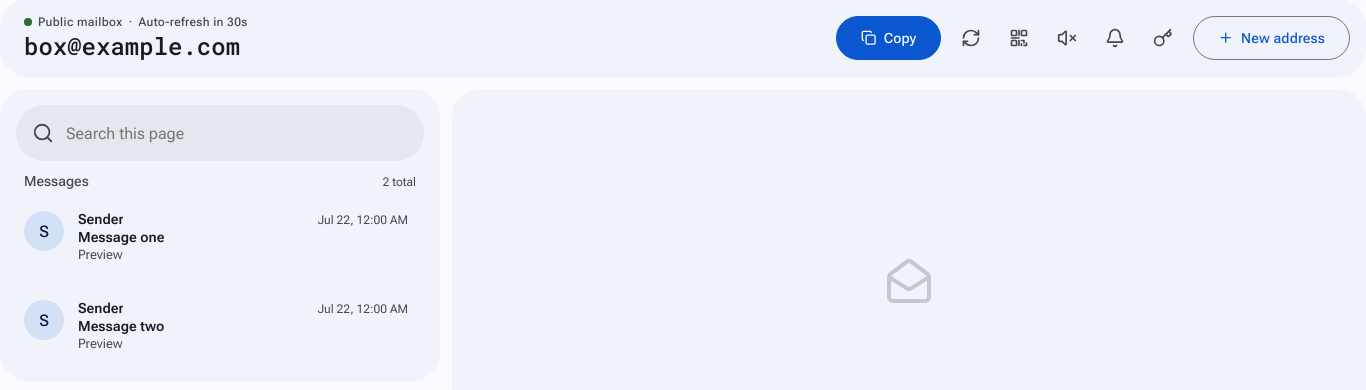
InboxView polling › restores the full page list when the query is cleared
Type "one" into the search field with placeholder "Search this page" at [237, 133], box [66,124,408,142]
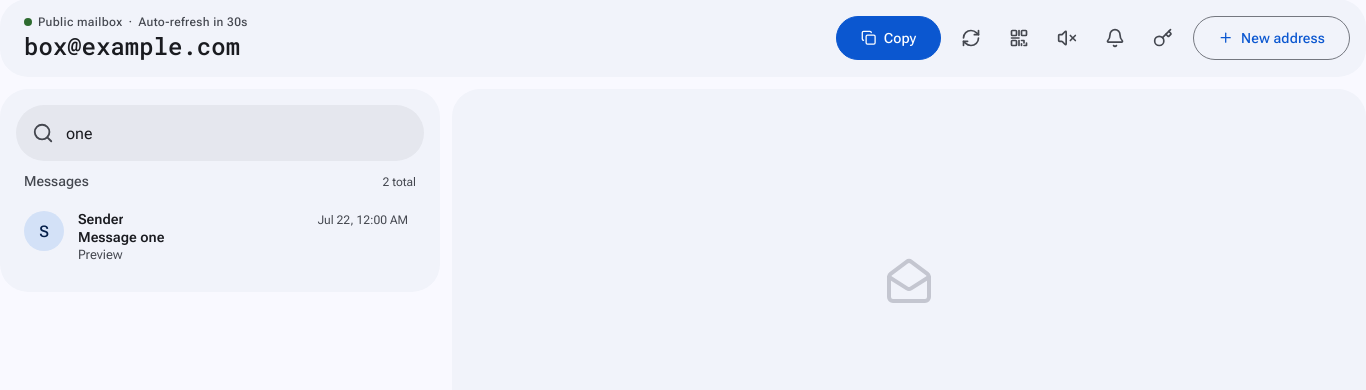
Check: the number of buttons with class "message-row" is 1, box [8,197,420,284]
Clear the search field at [237, 133], box [66,124,408,142]
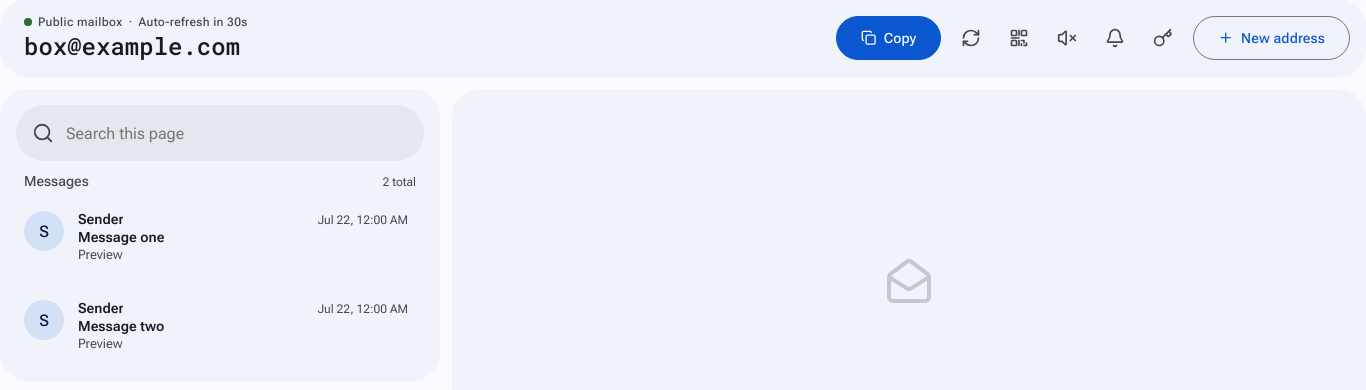
Check: the number of buttons with class "message-row" is 2, box [8,197,420,284]; [8,286,420,373]
